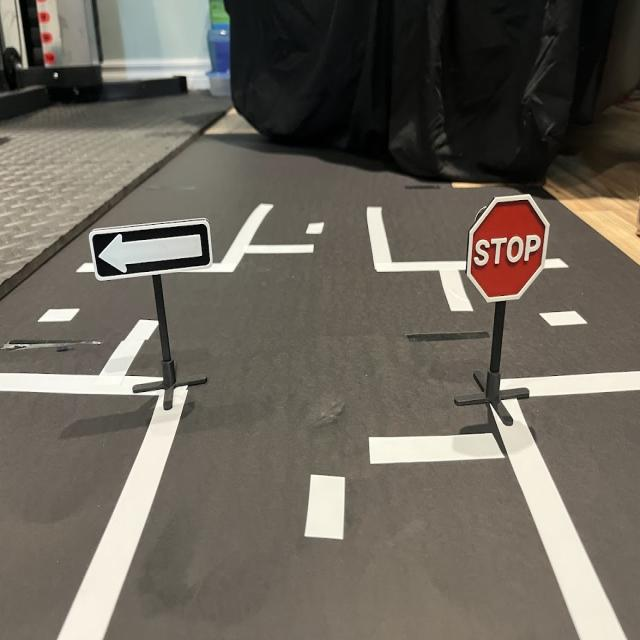sign_oneway_left: (91, 215, 216, 284)
sign_stop: (468, 194, 552, 303)
